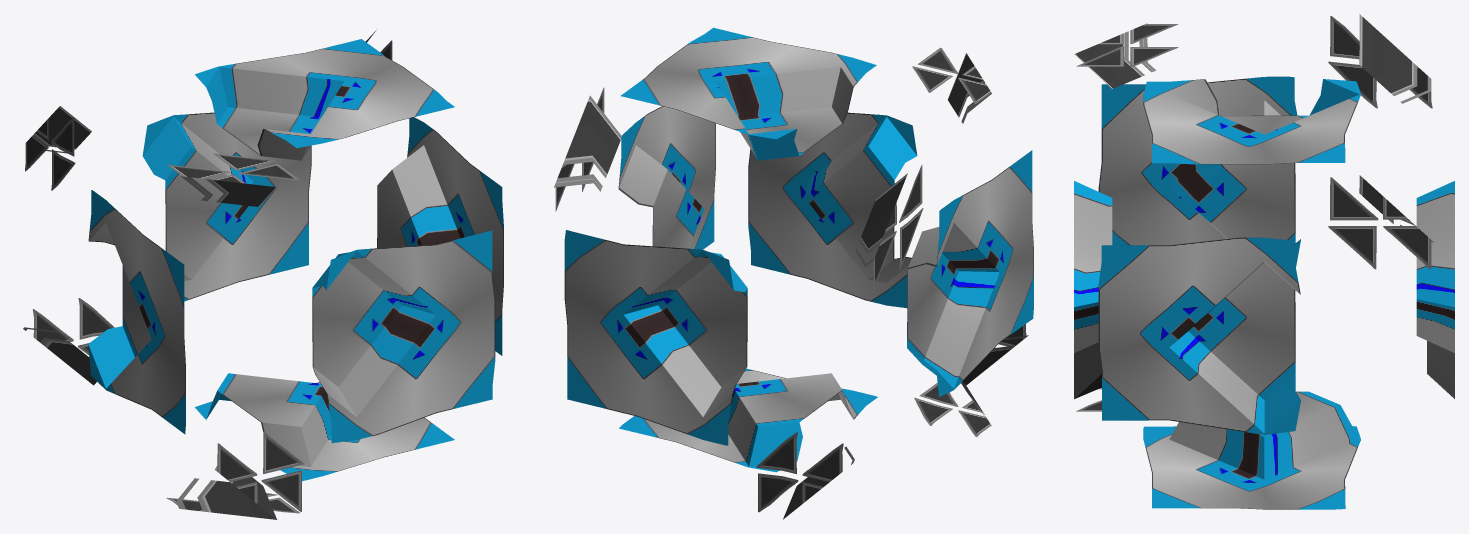
Rendered from hyper_fluid_sender.obj.
The picture shows the model from 3 angles, left to right: view 1: azimuth 30°, elevation 25°; view 2: azimuth 150°, elevation 25°; view 3: azimuth 270°, elevation 25°; orthographic projection. The views are drawn at different scales.
Parts seen in each view (by area): view 1: Cube; view 2: Cube; view 3: Cube.
Boxes of the visible parts, left/top/right/bottom form: Cube: left=23, top=30, right=503, bottom=519; Cube: left=554, top=27, right=1033, bottom=519; Cube: left=1074, top=14, right=1454, bottom=509.
Size of the model in its own units: 1 by 1 by 1.
